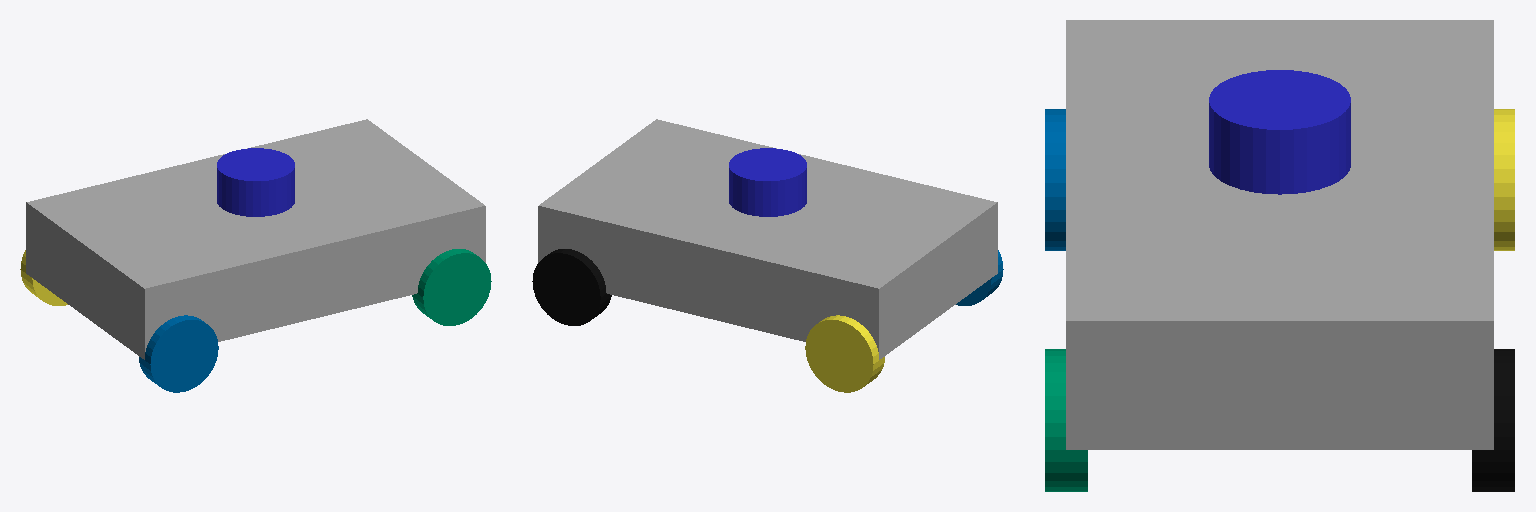
robot.urdf — rover:
<?xml version="1.0"?>
<robot name="rover">

  <!-- CHASSIS -->
  <link name="base_link">
    <visual>
      <geometry>
        <box size="0.5 0.3 0.1"/>
      </geometry>
      <material name="gray">
        <color rgba="0.7 0.7 0.7 1.0"/>
      </material>
    </visual>
    <collision>
      <geometry>
        <box size="0.5 0.3 0.1"/>
      </geometry>
    </collision>
    <inertial>
      <mass value="5.0"/>
      <origin xyz="0 0 0"/>
      <inertia ixx="0.2" iyy="0.2" izz="0.2" ixy="0.0" ixz="0.0" iyz="0.0"/>
    </inertial>
  </link>

  <!-- WHEELS -->

  <!-- Front Left -->
  <link name="wheel_fl">
    <visual>
      <origin rpy="1.5708 0 0"/>
      <geometry>
        <cylinder radius="0.05" length="0.03"/>
      </geometry>
      <material name="black"><color rgba="0.1 0.1 0.1 1.0"/></material>
    </visual>
    <collision>
      <origin rpy="1.5708 0 0"/>
      <geometry>
        <cylinder radius="0.05" length="0.03"/>
      </geometry>
    </collision>
    <inertial>
      <mass value="1.0"/>
      <inertia ixx="0.001" iyy="0.001" izz="0.001" ixy="0" ixz="0" iyz="0"/>
    </inertial>
  </link>

  <joint name="wheel_fl_joint" type="continuous">
    <parent link="base_link"/>
    <child link="wheel_fl"/>
    <origin xyz="0.2 0.15 -0.05"/>
    <axis xyz="0 1 0"/>
    <limit effort="100" velocity="100"/> <!-- add this or else errors, arbitrary number doesn't rly matter rn -->
  </joint>

  <!-- Front Right -->
  <link name="wheel_fr">
    <visual>
      <origin rpy="1.5708 0 0"/>
      <geometry>
        <cylinder radius="0.05" length="0.03"/>
      </geometry>
    </visual>
    <collision>
      <origin rpy="1.5708 0 0"/>
      <geometry>
        <cylinder radius="0.05" length="0.03"/>
      </geometry>
    </collision>
    <inertial>
      <mass value="1.0"/>
      <inertia ixx="0.001" iyy="0.001" izz="0.001" ixy="0" ixz="0" iyz="0"/>
    </inertial>
  </link>

  <joint name="wheel_fr_joint" type="continuous">
    <parent link="base_link"/>
    <child link="wheel_fr"/>
    <origin xyz="0.2 -0.15 -0.05"/>
    <axis xyz="0 -1 0"/>
    <limit effort="100" velocity="100"/> <!-- add this or else errors, arbitrary number doesn't rly matter rn -->
  </joint>

  <!-- Rear Left -->
  <link name="wheel_rl">
    <visual>
      <origin rpy="1.5708 0 0"/>
      <geometry>
        <cylinder radius="0.05" length="0.03"/>
      </geometry>
    </visual>
    <collision>
      <origin rpy="1.5708 0 0"/>
      <geometry>
        <cylinder radius="0.05" length="0.03"/>
      </geometry>
    </collision>
    <inertial>
      <mass value="1.0"/>
      <inertia ixx="0.001" iyy="0.001" izz="0.001" ixy="0" ixz="0" iyz="0"/>
    </inertial>
  </link>

  <joint name="wheel_rl_joint" type="continuous">
    <parent link="base_link"/>
    <child link="wheel_rl"/>
    <origin xyz="-0.2 0.15 -0.05"/>
    <axis xyz="0 1 0"/>
    <limit effort="100" velocity="100"/> <!-- add this or else errors, arbitrary number doesn't rly matter rn -->
  </joint>

  <!-- Rear Right -->
  <link name="wheel_rr">
    <visual>
      <origin rpy="1.5708 0 0"/>
      <geometry>
        <cylinder radius="0.05" length="0.03"/>
      </geometry>
    </visual>
    <collision>
      <origin rpy="1.5708 0 0"/>
      <geometry>
        <cylinder radius="0.05" length="0.03"/>
      </geometry>
    </collision>
    <inertial>
      <mass value="1.0"/>
      <inertia ixx="0.001" iyy="0.001" izz="0.001" ixy="0" ixz="0" iyz="0"/>
    </inertial>
  </link>

  <joint name="wheel_rr_joint" type="continuous">
    <parent link="base_link"/>
    <child link="wheel_rr"/>
    <origin xyz="-0.2 -0.15 -0.05"/>
    <axis xyz="0 -1 0"/>
    <limit effort="100" velocity="100"/> <!-- add this or else errors, arbitrary number doesn't rly matter rn -->
  </joint>

  <!-- LiDAR -->
  <link name="lidar_link">
    <visual>
      <geometry><cylinder length="0.05" radius="0.05"/></geometry>
      <material name="blue"><color rgba="0.2 0.2 0.8 1.0"/></material>
    </visual>
    <collision>
      <geometry><cylinder length="0.05" radius="0.05"/></geometry>
    </collision>
    <inertial>
      <mass value="0.1"/>
      <inertia ixx="1e-4" iyy="1e-4" izz="1e-4" ixy="0" ixz="0" iyz="0"/>
    </inertial>
  </link>

  <joint name="lidar_joint" type="fixed">
    <parent link="base_link"/>
    <child link="lidar_link"/>
    <origin xyz="0 0 0.08" rpy="0 0 0"/>
  </joint>

  <!-- plugins -->
  <gazebo>
    <!-- differential drive -->
    <plugin filename="libignition-gazebo-diff-drive-system.so" name="ignition::gazebo::systems::DiffDrive">
      <left_joint>wheel_fl_joint</left_joint>
      <left_joint>wheel_rl_joint</left_joint>
      <right_joint>wheel_fr_joint</right_joint>
      <right_joint>wheel_rr_joint</right_joint>
      <wheel_separation>0.3</wheel_separation>
      <wheel_radius>0.05</wheel_radius>
      <topic>/cmd_vel</topic>
      <odom_topic>/odom</odom_topic>
      <frame_id>odom</frame_id>
      <child_frame_id>base_link</child_frame_id>
    </plugin>

    <!-- joint state publisher -->
    <plugin filename="libignition-gazebo-joint-state-publisher-system.so" name="ignition::gazebo::systems::JointStatePublisher">
    </plugin>

    <!-- pose publisher to tf bridge -->
    <plugin filename="libignition-gazebo-pose-publisher-system.so" name="ignition::gazebo::systems::PosePublisher">
      <publish_link_pose>true</publish_link_pose>
      <use_pose_vector_msg>true</use_pose_vector_msg>
      <static_publisher>true</static_publisher>
      <static_update_frequency>10</static_update_frequency>
    </plugin>
  </gazebo>

  <!-- LiDAR Sensor -->
  <gazebo reference="lidar_link">
    <sensor name="lidar_sensor" type="gpu_lidar">
      <update_rate>10</update_rate>
      <lidar>
        <scan>
          <horizontal>
            <samples>360</samples>
            <resolution>1</resolution>
            <min_angle>-3.14159</min_angle>
            <max_angle>3.14159</max_angle>
          </horizontal>
        </scan>
        <range>
          <min>0.1</min>
          <max>10.0</max>
        </range>
      </lidar>
      <always_on>true</always_on>
      <visualize>true</visualize>
      <topic>/lidar</topic>
    </sensor>
  </gazebo>

</robot>

--- Render facts (derived) ---
The picture shows the robot from 3 angles, left to right: view 1: azimuth 30°, elevation 25°; view 2: azimuth 150°, elevation 25°; view 3: azimuth 270°, elevation 25°; orthographic projection.
Robot: rover — 6 links, 5 joints (4 continuous, 1 fixed); root link base_link; default pose: all joints at 0.
Links seen in each view (by area): view 1: base_link, lidar_link, wheel_rr, wheel_fr, wheel_rl; view 2: base_link, lidar_link, wheel_rl, wheel_fl, wheel_rr; view 3: base_link, lidar_link, wheel_fl, wheel_fr, wheel_rl, wheel_rr.
Boxes of the visible links, <box> form: base_link: <box>26,119,485,359</box>; lidar_link: <box>217,148,294,216</box>; wheel_rr: <box>139,315,218,392</box>; wheel_fr: <box>412,249,491,325</box>; wheel_rl: <box>20,250,67,305</box>; base_link: <box>538,119,997,359</box>; lidar_link: <box>729,148,806,216</box>; wheel_rl: <box>805,315,884,392</box>; wheel_fl: <box>532,249,611,325</box>; wheel_rr: <box>956,250,1003,305</box>; base_link: <box>1066,20,1493,449</box>; lidar_link: <box>1209,70,1350,194</box>; wheel_fl: <box>1472,349,1514,491</box>; wheel_fr: <box>1045,349,1087,491</box>; wheel_rl: <box>1494,109,1514,250</box>; wheel_rr: <box>1045,109,1065,250</box>.
Size in the robot's own frame: 0.5 by 0.33 by 0.205 metres.
Geometry: primitives only (box / cylinder / sphere), no mesh files.
